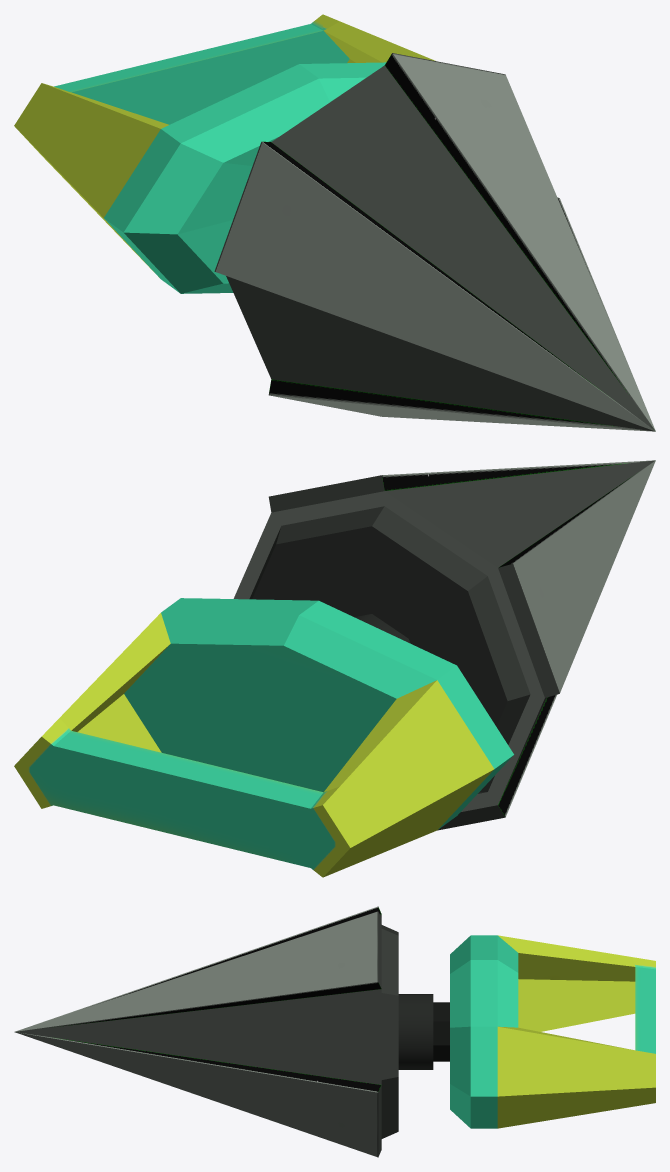
The model's file is Drill.fbx.
The picture shows the model from 3 angles, top to bottom: view 1: azimuth 30°, elevation 25°; view 2: azimuth 150°, elevation 25°; view 3: azimuth 270°, elevation 25°; orthographic projection. The views are drawn at different scales.
Parts seen in each view (by area): view 1: blade, handle; view 2: handle, blade; view 3: blade, handle.
Boxes of the visible parts, box(x1,y1,x2,y2) form: blade: box(214, 53, 655, 431); handle: box(14, 14, 435, 293); handle: box(14, 598, 514, 877); blade: box(233, 460, 655, 830); blade: box(14, 906, 449, 1157); handle: box(450, 935, 655, 1128).
Size of the model in its own units: 36.41 by 76.45 by 32.17.
